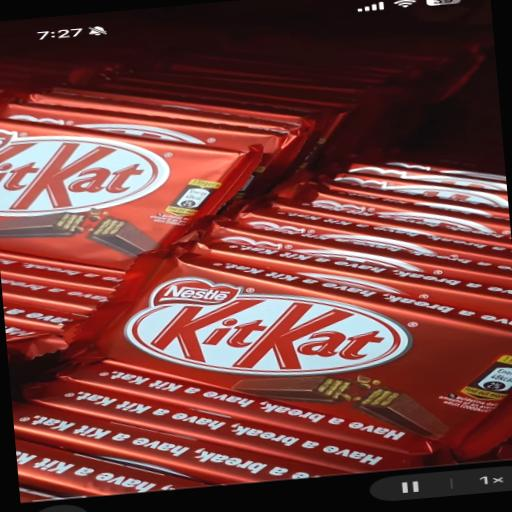kitkat: (85, 220, 512, 466)
